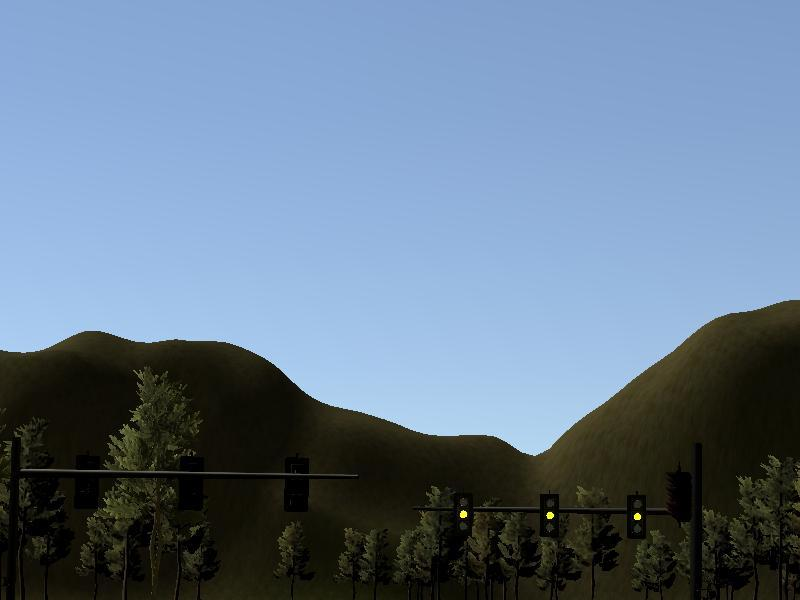Yellow: (539, 494, 558, 537), (453, 492, 472, 535), (627, 493, 645, 538)
